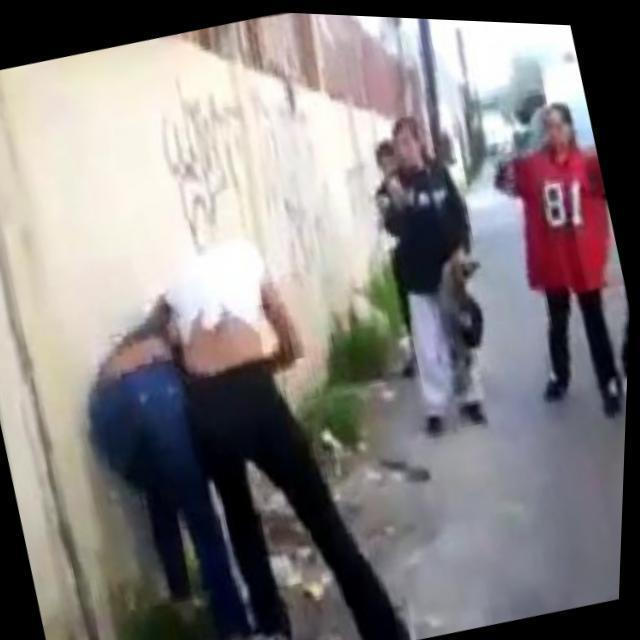fight: (38, 197, 416, 640)
